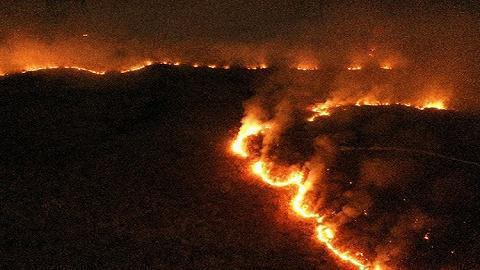fire: (224, 116, 396, 266), (2, 54, 395, 75), (257, 90, 450, 117)
